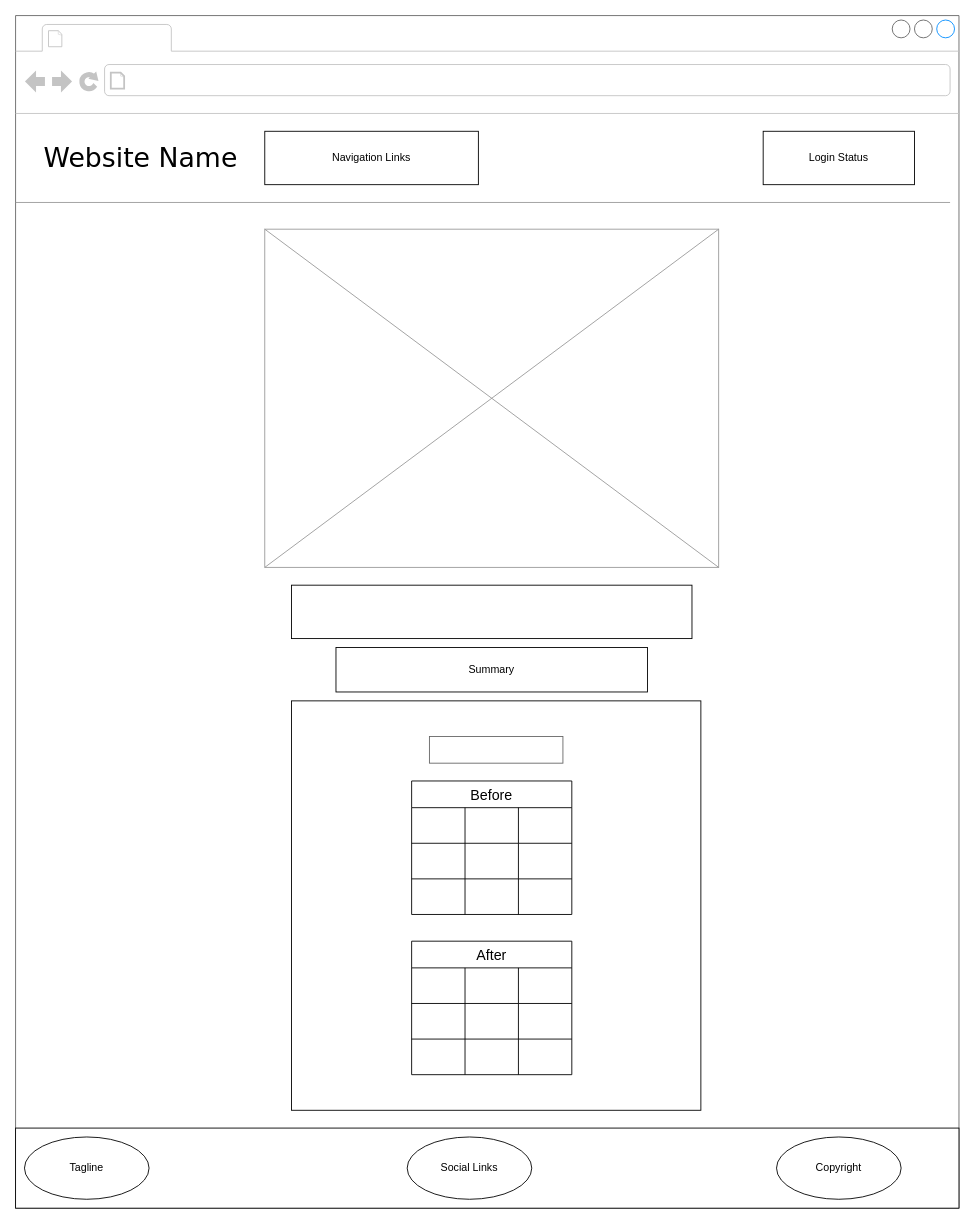
Image size: 975x1224. Some labels were removed from this diagram. The shapes that lost their labels are listed below. From the top down, each one's box as (x1, y1, x2, y2) in pixels, then its label:
(68, 25, 167, 49): Page 1
(130, 68, 354, 92): https://www.default.com
(291, 584, 692, 639): Title
(429, 736, 563, 763): Specifications
